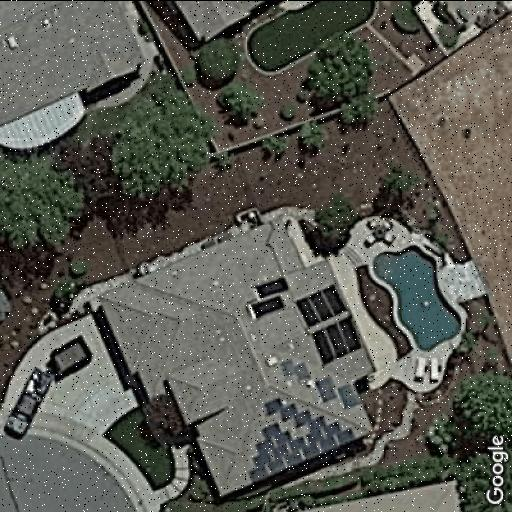solar-panel: (246, 396, 354, 482), (292, 283, 364, 364), (278, 356, 362, 410), (247, 274, 291, 320)
